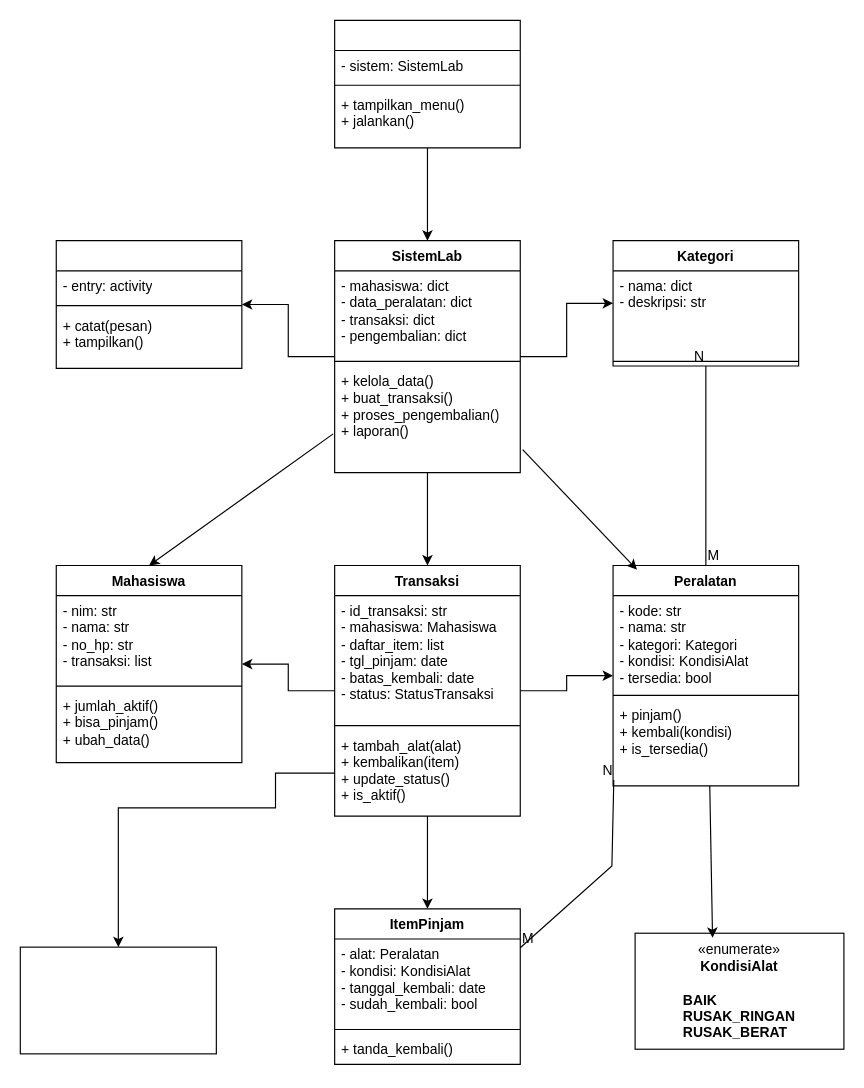
The diagram is 864 pixels wide and 1088 high, and some of its shapes have lost their labels. The shapes that lost their labels are listed below. From the top down, each one's box as (x1, y1, x2, y2) in pixels, then its label:
(334, 19, 520, 148): Menu Utama
(55, 240, 242, 368): LogAktivitas
(19, 946, 216, 1054): «enumerate» StatusTransaksi DIPINJAM SEBAGIAN_DIKEMBALIKAN SELESAI
